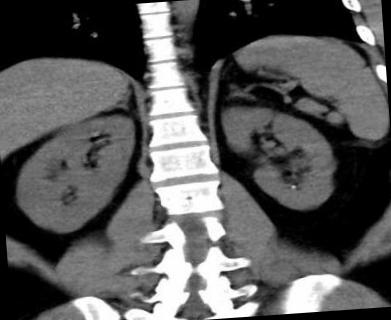Tas_Var: (290, 185, 296, 190)
